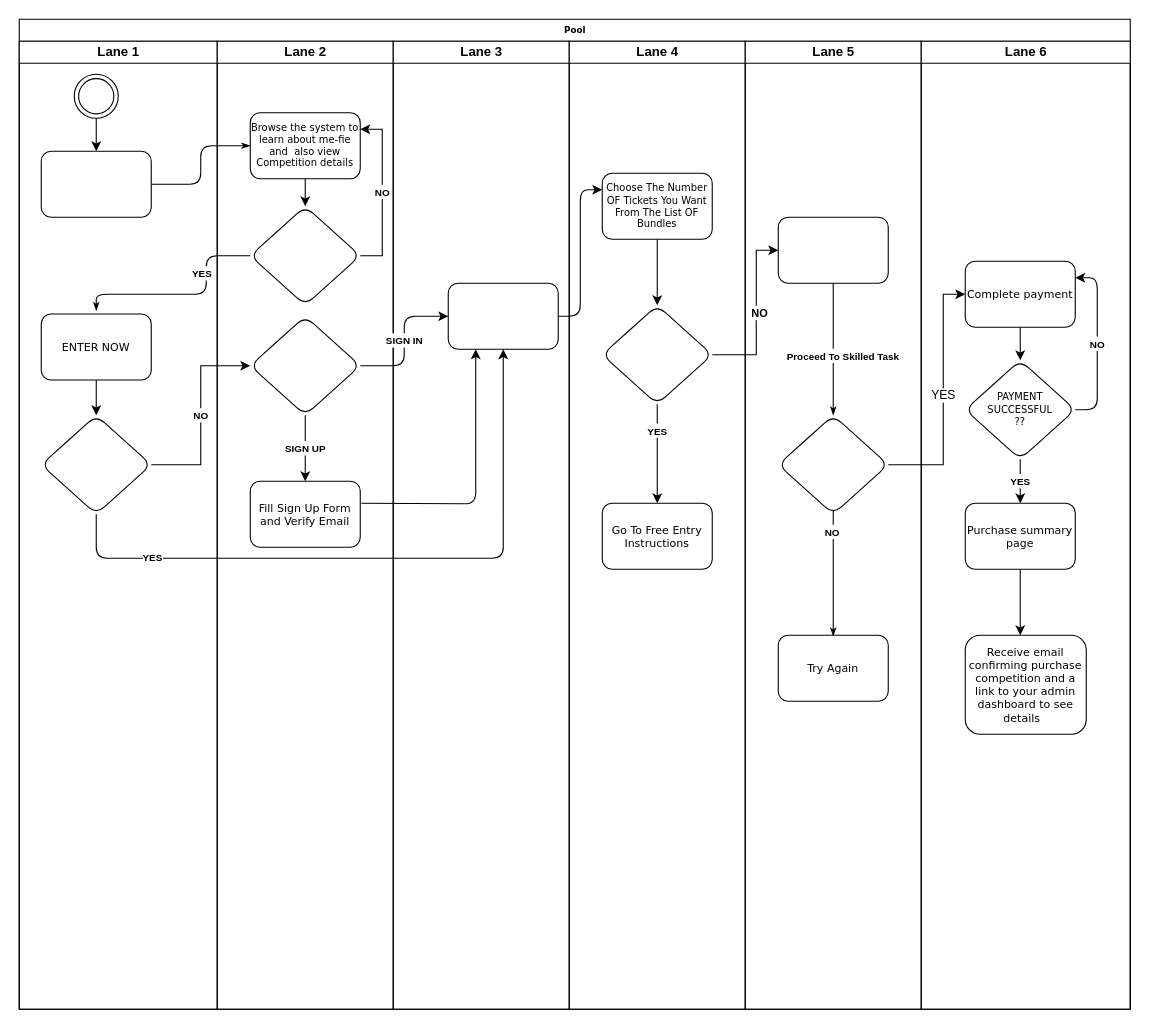
Some shapes in this 1150 by 1029 pixel diagram are drawn without their labels. The centre of each missing label's shape, as x and y in pixels:
Auth ?: point (95, 464)
Free Entry Selected ??: point (656, 354)
Interested in a competition ?: point (304, 255)
Open www.me-fie.com: point (95, 183)
Redirected to the competition client Selected to enter: point (502, 315)
SIGN IN OR SIGN UP: point (304, 365)
Start: point (95, 95)
Task Completed Successfully ??: point (832, 464)
View Chosen Bundle Info: point (832, 249)
